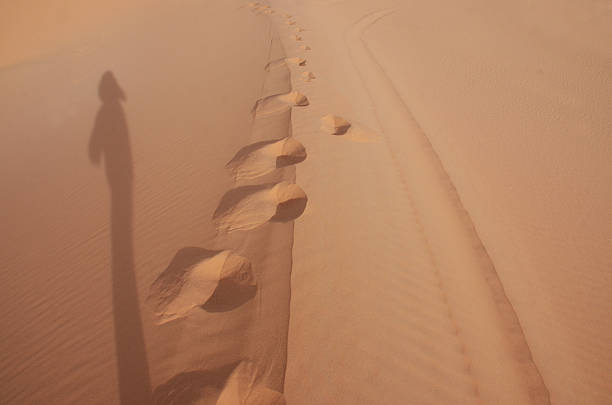human_foot_print: (147, 247, 255, 323), (213, 181, 308, 233), (226, 137, 306, 180), (320, 114, 378, 142), (253, 90, 308, 115), (264, 57, 305, 70), (301, 71, 315, 81)
